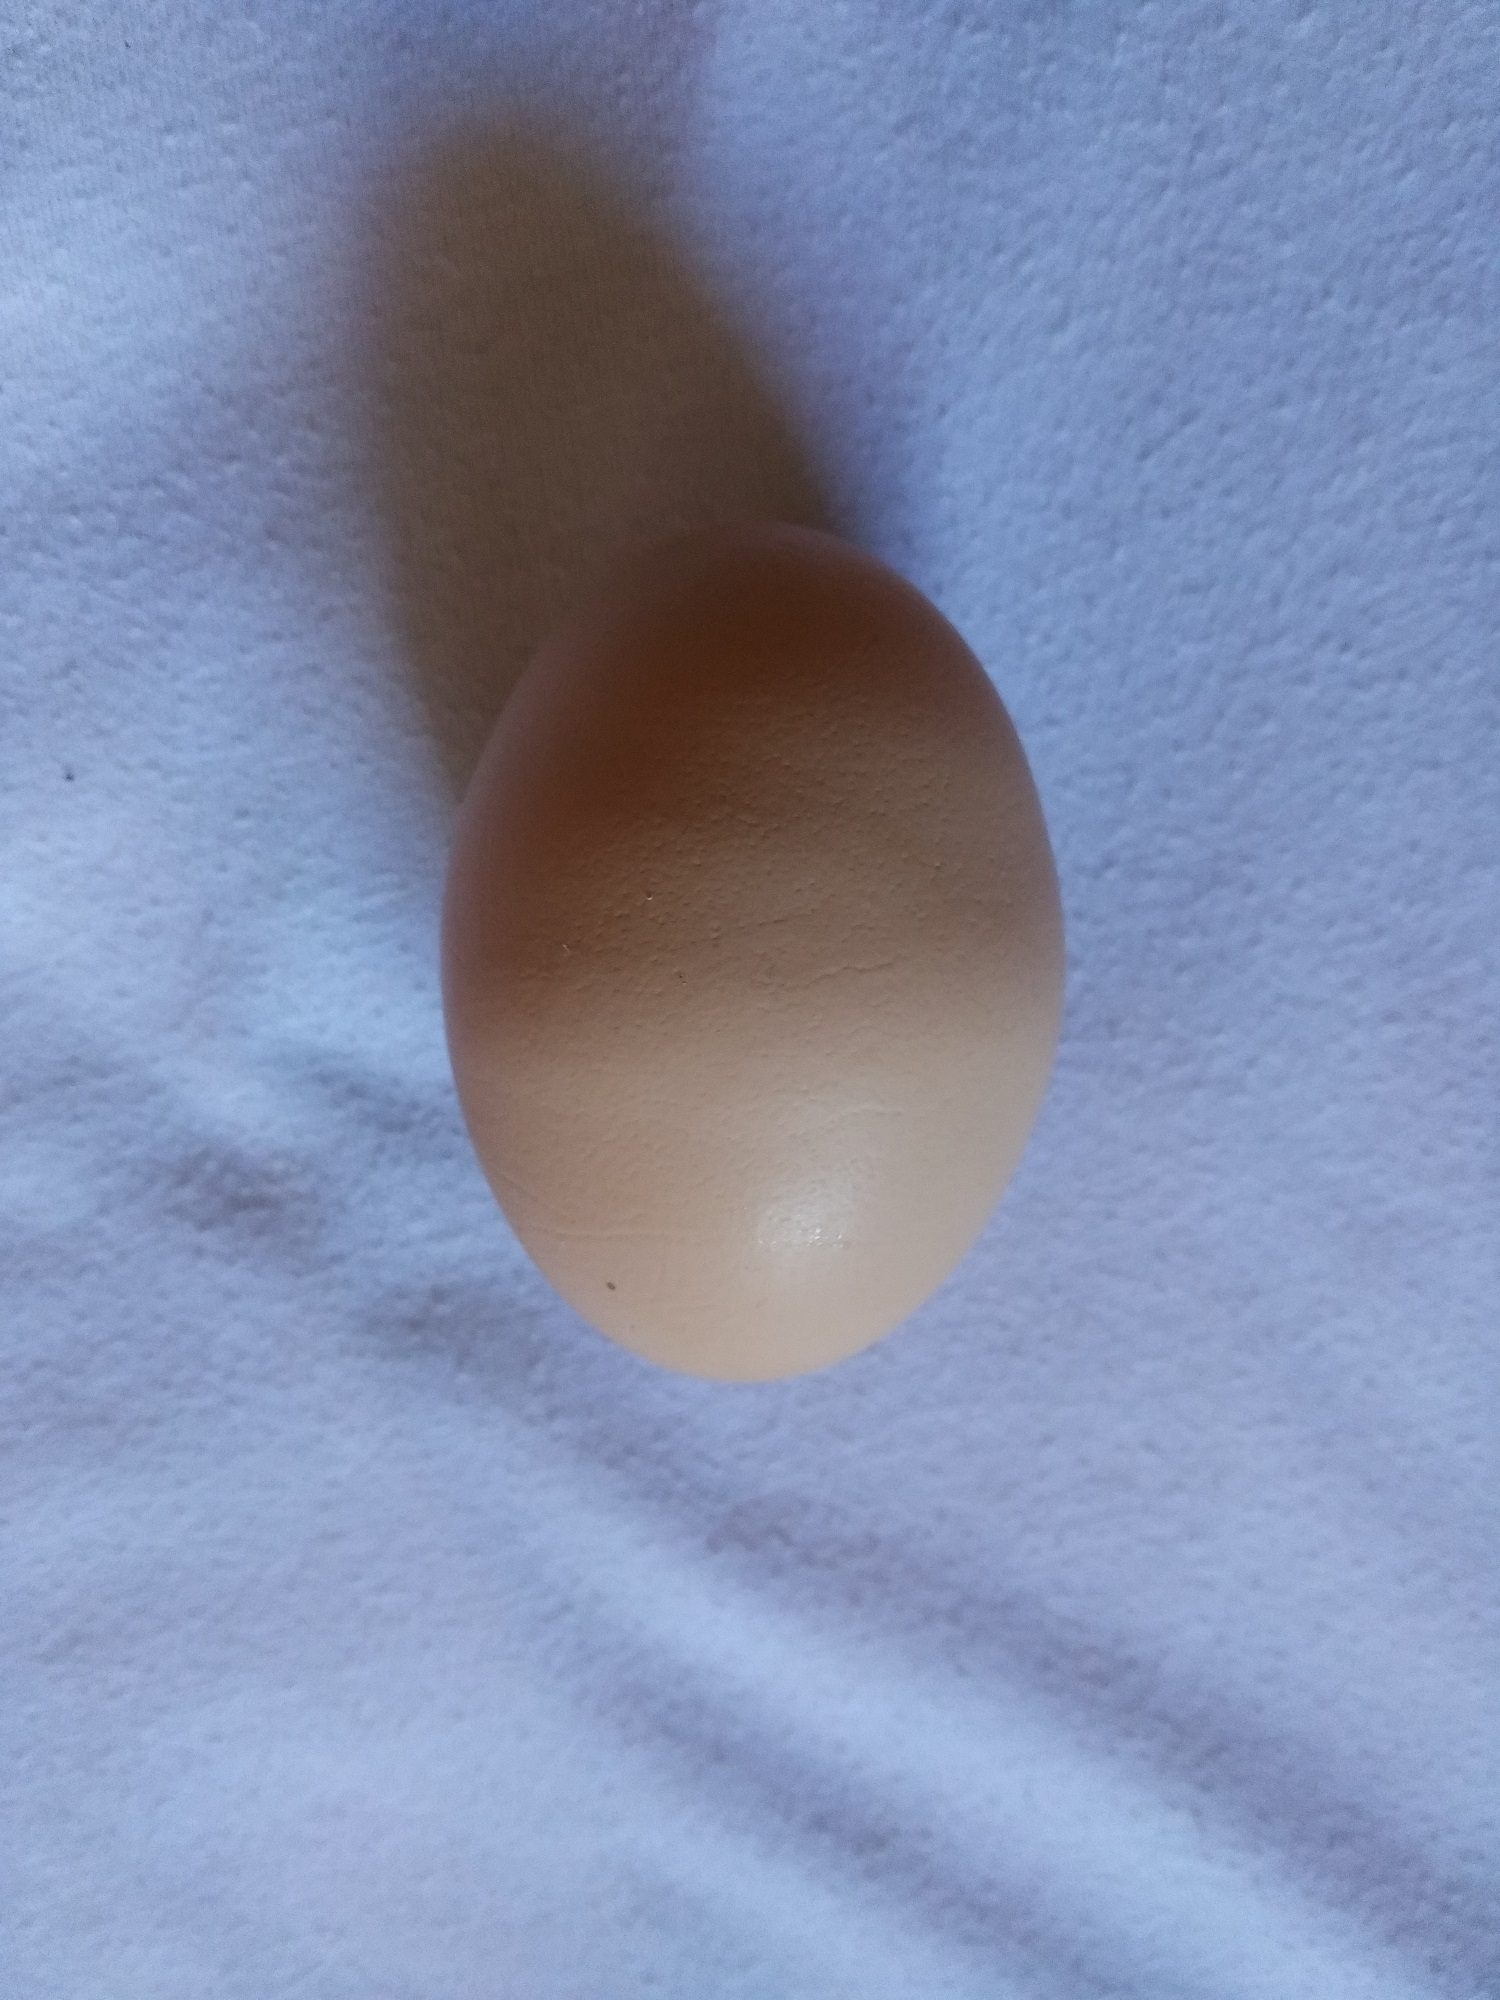Female: (425, 509, 1071, 1395)
